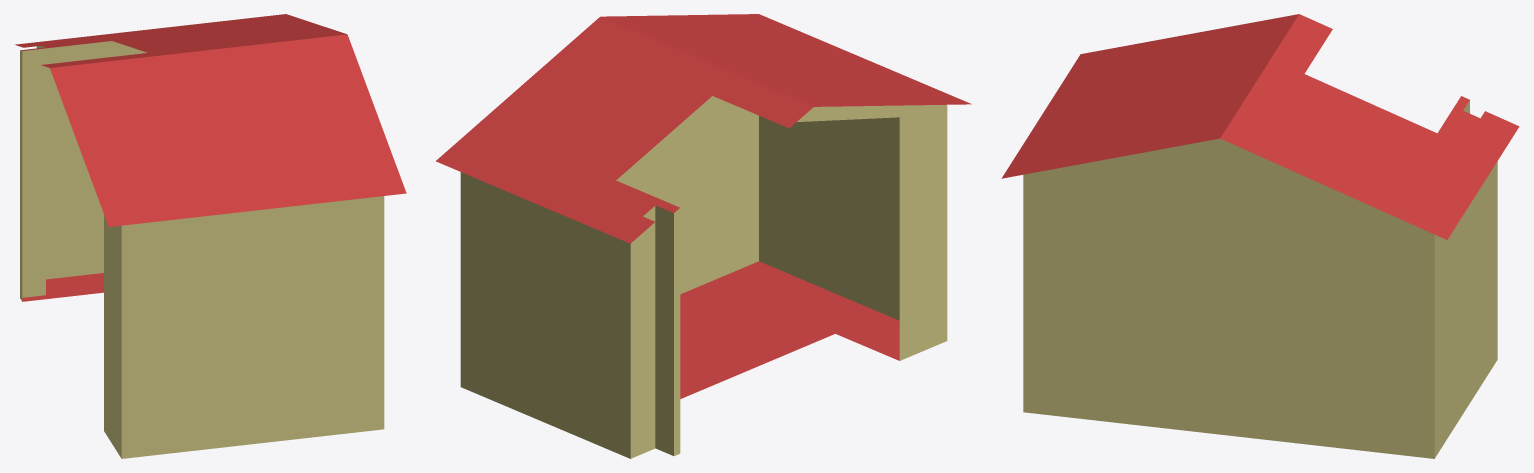
The picture shows the model from 3 angles, left to right: view 1: azimuth 30°, elevation 25°; view 2: azimuth 150°, elevation 25°; view 3: azimuth 270°, elevation 25°; orthographic projection.
Bounding box in the file's own units: 11.5 × 14.38 × 9.31.
